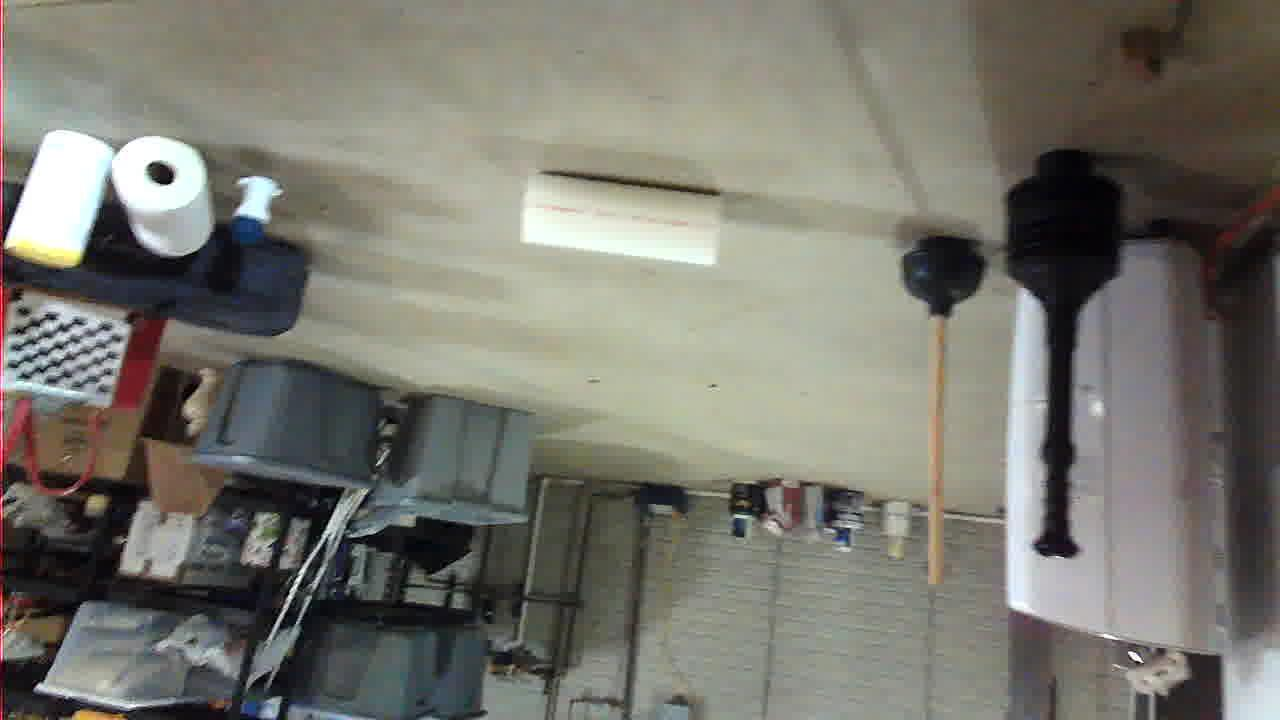coral: (565, 453, 755, 551)
